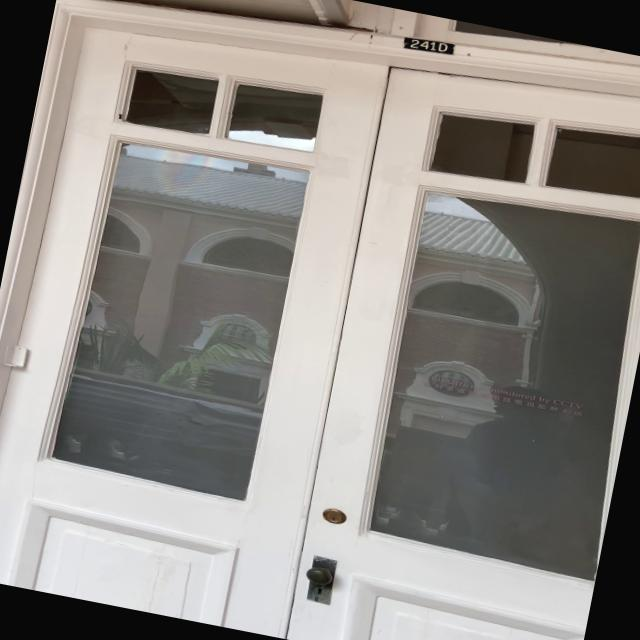room241d: (398, 32, 458, 59)
